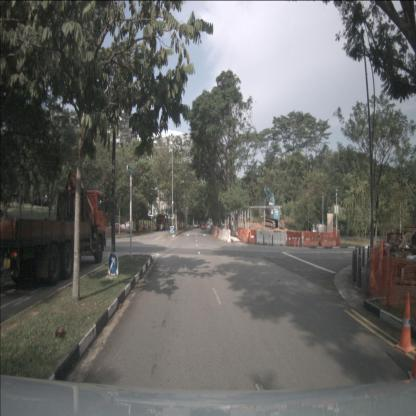movable_object-barrier: (376, 247, 393, 297), (368, 246, 382, 292), (286, 230, 302, 247), (256, 229, 273, 245), (303, 231, 319, 247), (320, 231, 336, 247), (272, 231, 286, 246), (243, 229, 257, 243), (222, 228, 231, 243), (336, 230, 342, 246), (237, 228, 245, 240), (218, 228, 224, 240), (216, 227, 221, 239), (214, 226, 218, 238)
movable_object-trafficcone: (395, 293, 415, 353), (292, 236, 296, 247), (297, 237, 300, 248)
vehicle-car: (201, 223, 206, 230)
vehicle-truck: (0, 170, 107, 287), (154, 213, 166, 231)
